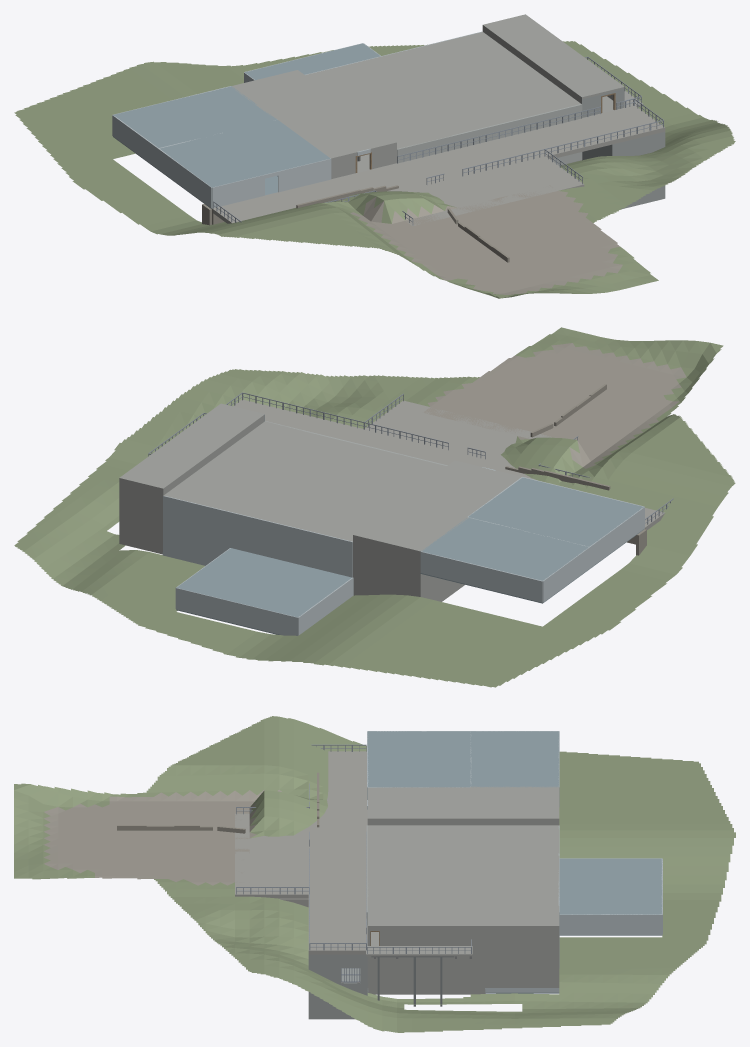
File: spillway-gallery.glb
3 views of the same model, one above another, from view 1: azimuth 30°, elevation 25°; view 2: azimuth 150°, elevation 25°; view 3: azimuth 270°, elevation 25° (orthographic). The views are drawn at different scales.
Parts seen in each view (by area): view 1: WLD-09 saved contained hall terrain, WLD-09 turbine enclosed roof region0, WLD-09 complete structural crest deck region0, WLD-09 west hall enclosed roof region0, Ceiling cap control, Ceiling cap office, WLD-09 complete bridge arrival forecourt region0, WLD-09 east hall enclosed roof region0, WLD-09 restart shared turbine workshop north end pier region, Ceiling cap plant, Wall control W, Flat route shell Wall control S.001 (+6 smaller); view 2: WLD-09 saved contained hall terrain, WLD-09 turbine enclosed roof region0, WLD-09 west hall enclosed roof region0, Ceiling cap plant, Ceiling cap control, Flat route shell Wall turbine N.001, Ceiling cap office, WLD-09 complete bridge arrival forecourt region0, WLD-09 east hall enclosed roof region0, WLD-09 complete structural crest deck region0, WLD-09 west-hall N end region0, WLD-09 hall N end region0 (+7 smaller); view 3: WLD-09 saved contained hall terrain, WLD-09 turbine enclosed roof region0, WLD-09 complete structural crest deck region0, WLD-09 hall E pier0 region0, WLD-09 west hall enclosed roof region0, Ceiling cap control, Ceiling cap plant, Ceiling cap office, WLD-09 complete bridge arrival forecourt region0, WLD-09 east hall enclosed roof region0, Wall plant E, WLD-09 retained external service catwalk region0 (+5 smaller).
Boxes of the visible parts, x1,y1,x2,y2 form: WLD-09 saved contained hall terrain: (14, 41, 735, 298); WLD-09 turbine enclosed roof region0: (305, 32, 580, 148); WLD-09 complete structural crest deck region0: (212, 105, 665, 223); WLD-09 west hall enclosed roof region0: (232, 70, 396, 160); Ceiling cap control: (160, 119, 330, 187); Ceiling cap office: (113, 86, 276, 147); WLD-09 complete bridge arrival forecourt region0: (403, 156, 584, 225); WLD-09 east hall enclosed roof region0: (482, 14, 624, 99); WLD-09 restart shared turbine workshop north end pier region: (462, 104, 582, 165); Ceiling cap plant: (245, 43, 380, 80); Wall control W: (158, 148, 211, 208); Flat route shell Wall control S.001: (277, 158, 331, 192); WLD-09 saved contained hall terrain: (14, 327, 735, 687); WLD-09 turbine enclosed roof region0: (163, 421, 446, 541); WLD-09 west hall enclosed roof region0: (353, 460, 519, 553); Ceiling cap plant: (176, 548, 351, 617); Ceiling cap control: (468, 477, 643, 546); Flat route shell Wall turbine N.001: (163, 496, 286, 563); Ceiling cap office: (421, 517, 588, 580); WLD-09 complete bridge arrival forecourt region0: (365, 400, 554, 464); WLD-09 east hall enclosed roof region0: (119, 403, 264, 490); WLD-09 complete structural crest deck region0: (233, 399, 664, 529); WLD-09 west-hall N end region0: (353, 535, 421, 596); WLD-09 hall N end region0: (119, 478, 164, 552); WLD-09 saved contained hall terrain: (14, 716, 735, 1032); WLD-09 turbine enclosed roof region0: (367, 825, 559, 905); WLD-09 complete structural crest deck region0: (308, 751, 367, 954); WLD-09 hall E pier0 region0: (379, 925, 559, 985); WLD-09 west hall enclosed roof region0: (367, 787, 559, 820); Ceiling cap control: (367, 731, 470, 787); Ceiling cap plant: (559, 858, 662, 914); Ceiling cap office: (470, 731, 559, 787); WLD-09 complete bridge arrival forecourt region0: (235, 813, 308, 898); WLD-09 east hall enclosed roof region0: (367, 905, 559, 927); Wall plant E: (559, 914, 662, 934); WLD-09 retained external service catwalk region0: (366, 946, 472, 956).
Bounding box in the file's own units: 85 × 13.4 × 98.
42 materials, 26 textured.
